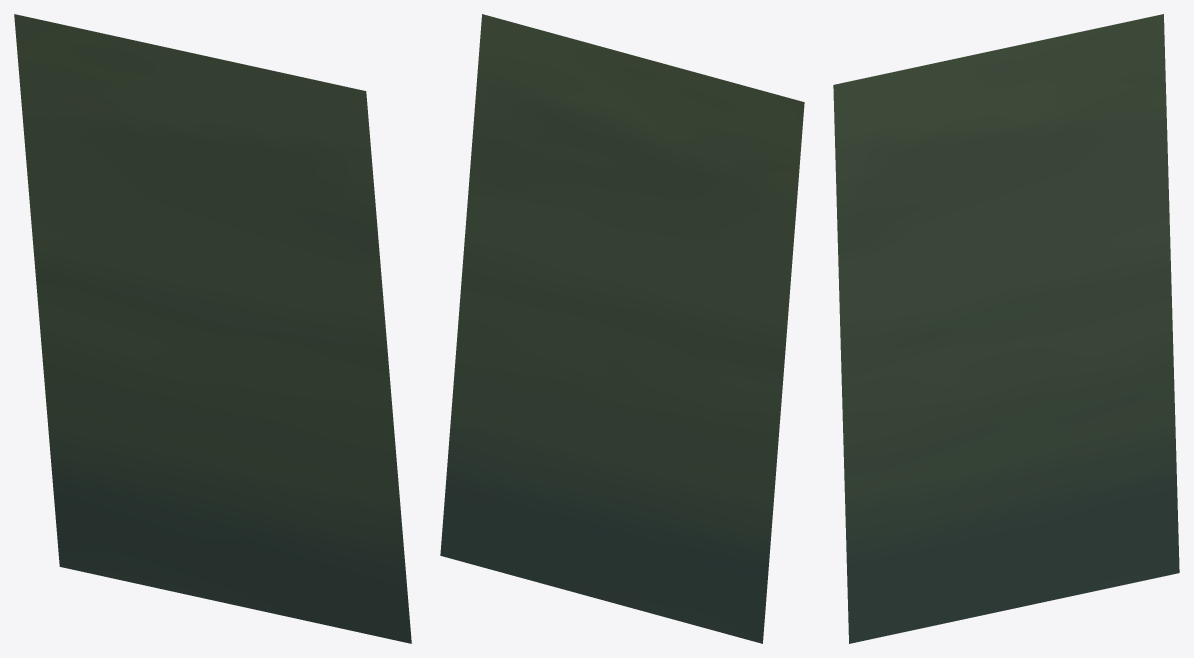
The model's file is pplane59_lambert6_0_lev2.glb.
The picture shows the model from 3 angles, left to right: view 1: azimuth 30°, elevation 25°; view 2: azimuth 210°, elevation 25°; view 3: azimuth 270°, elevation 25°; orthographic projection. The views are drawn at different scales.
Visible parts, largest first — view 1: pplane59_lambert6_0_lev2; view 2: pplane59_lambert6_0_lev2; view 3: pplane59_lambert6_0_lev2.
Part boxes in pixels (x1,y1,x2,y2): pplane59_lambert6_0_lev2: [14, 14, 411, 643]; pplane59_lambert6_0_lev2: [440, 14, 804, 643]; pplane59_lambert6_0_lev2: [833, 14, 1179, 643].
Size of the model in its own units: 0.0652 by 0.1583 by 0.0914.
Materials: 1 (1 with a texture image).
